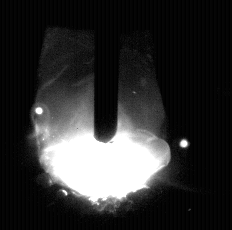arame: (95, 0, 119, 142)
poca: (35, 0, 165, 230)
